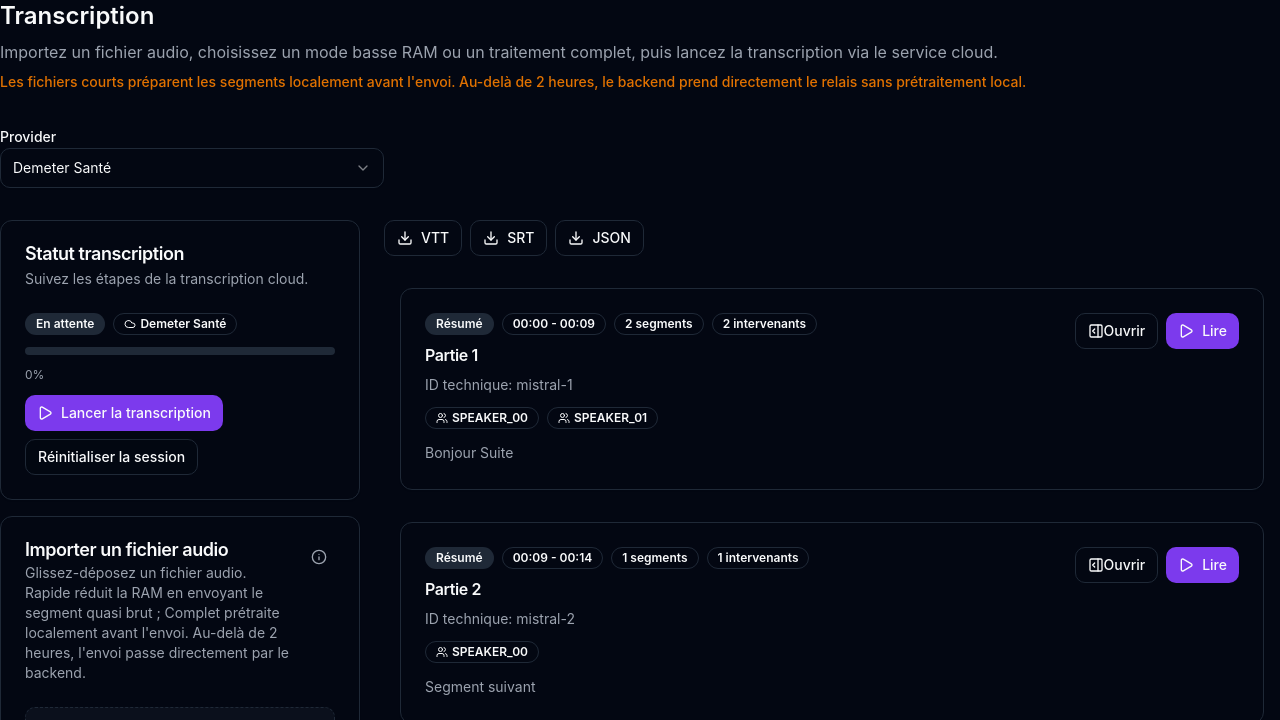
Test case: CloudUploadPage › renders summary cards by default and mounts one detail panel on demand
Expected: the heading "Partie 1" is shown, [425, 345, 478, 365]
Expected: the heading "Partie 2" is shown, [425, 579, 481, 599]
Click the button "Ouvrir" in the row of "00:00 - 00:09".
click(1116, 331)  # box [1074, 313, 1158, 349]
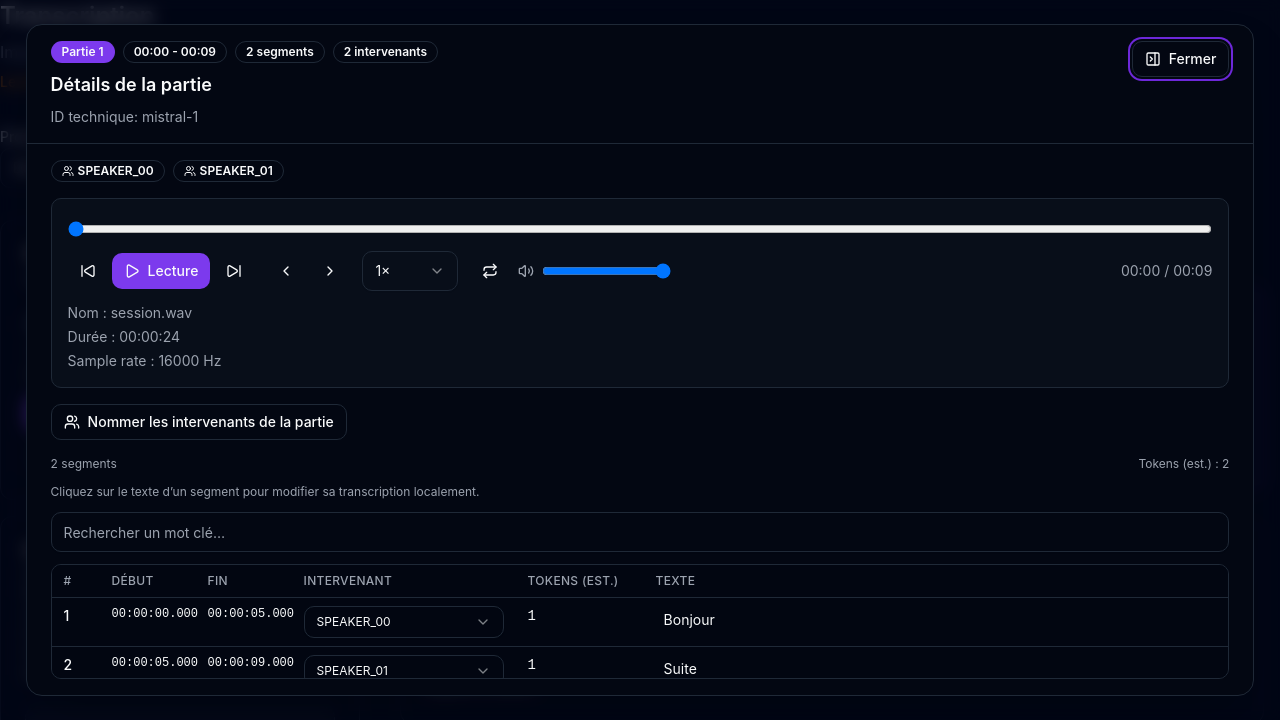
Now the dialog "Détails de la partie" is shown
Now the button "Nommer les intervenants de la partie" is shown, box [51, 404, 347, 440]
Now the column heading "Intervenant" is shown, box [304, 573, 392, 588]
Click the button "Fermer".
click(1181, 59)  # box [1132, 41, 1229, 77]
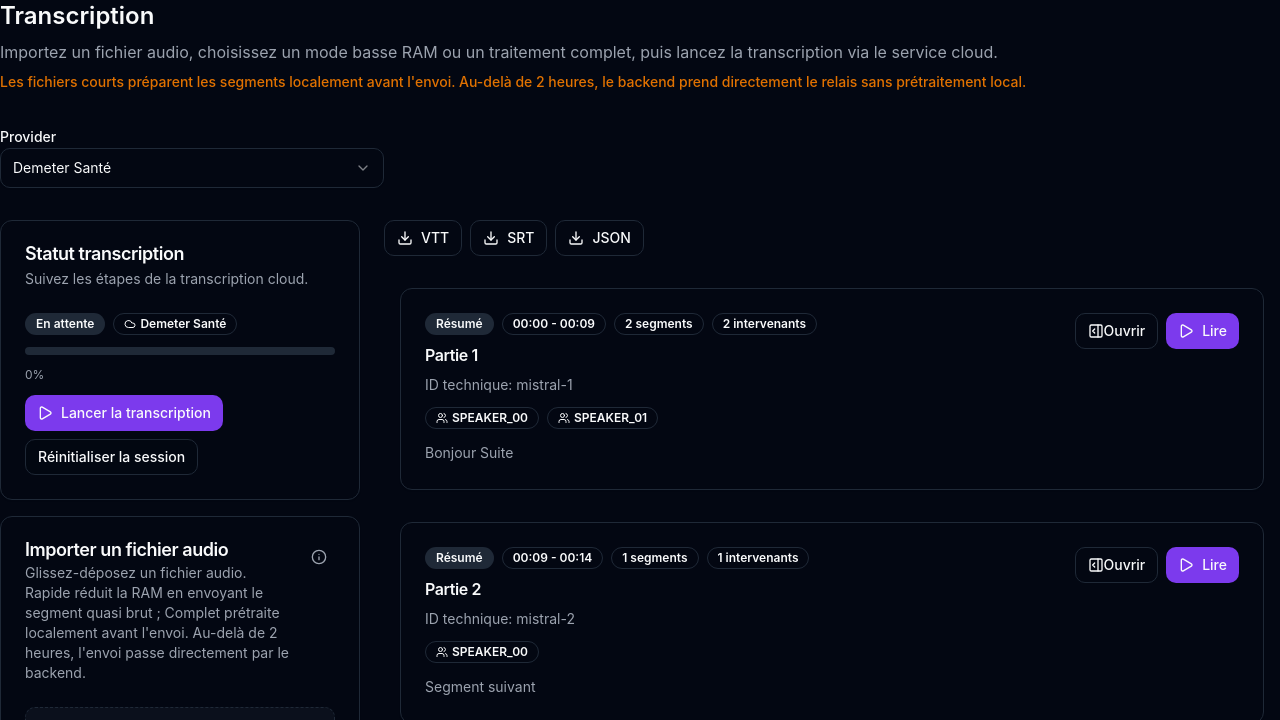
Now the heading "Détails de la partie" is gone
